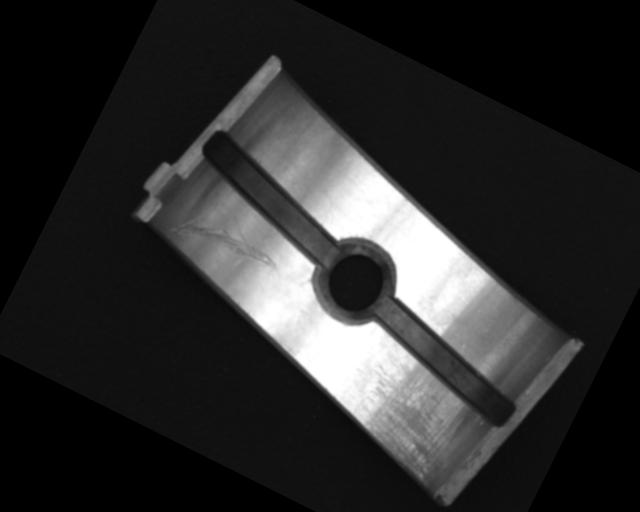gap: (177, 126, 363, 273), (351, 294, 535, 431)
hole: (303, 229, 406, 333)
nick: (165, 190, 291, 285)
scratch: (338, 350, 483, 494)
